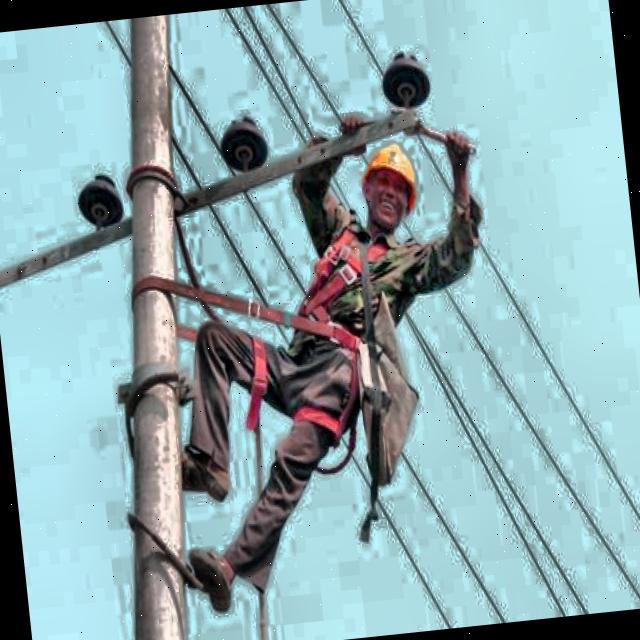helmet: (352, 131, 427, 243)
